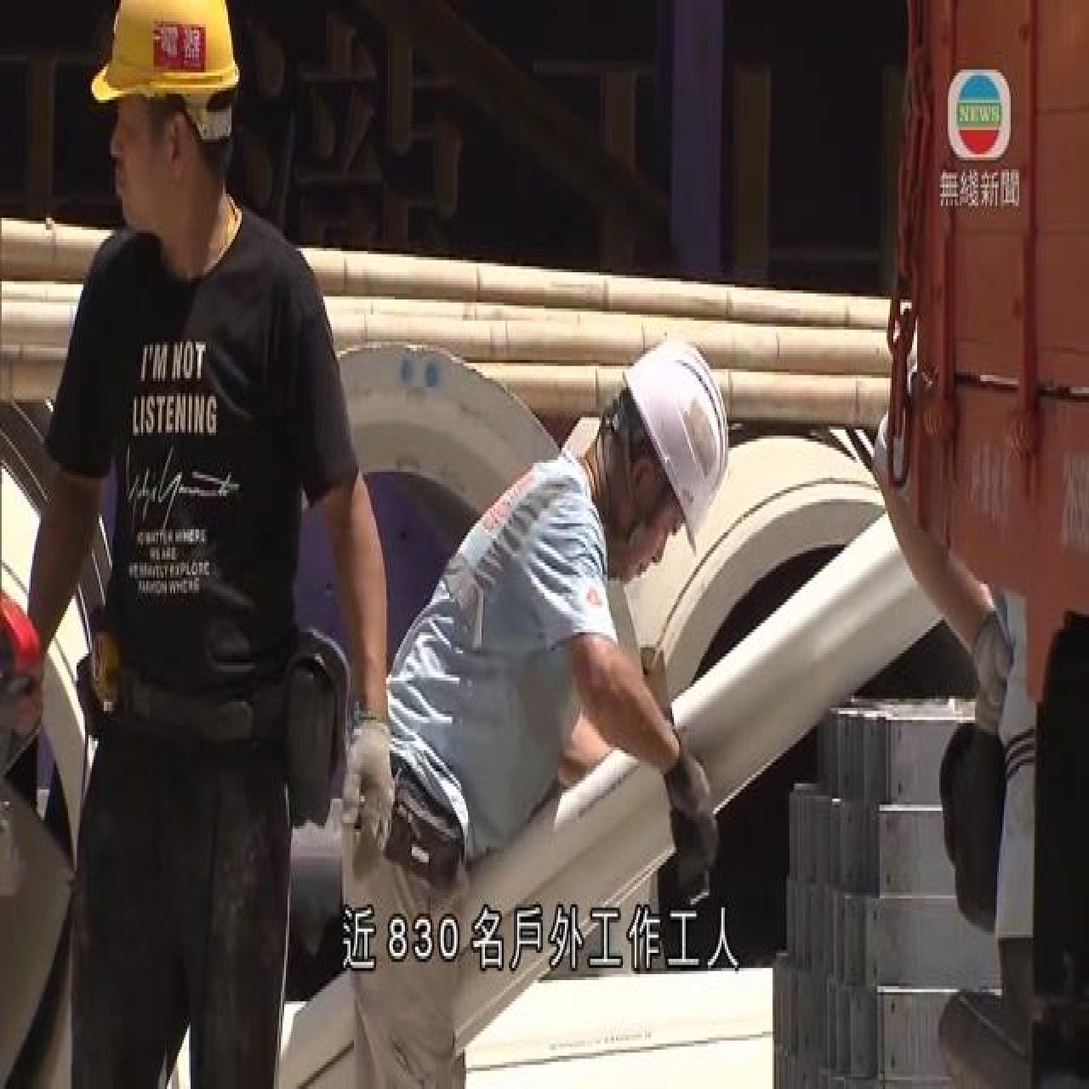NO_Safety_Vest: (47, 224, 346, 744), (367, 430, 603, 866)
Person: (0, 0, 403, 1086), (327, 232, 754, 1089)
